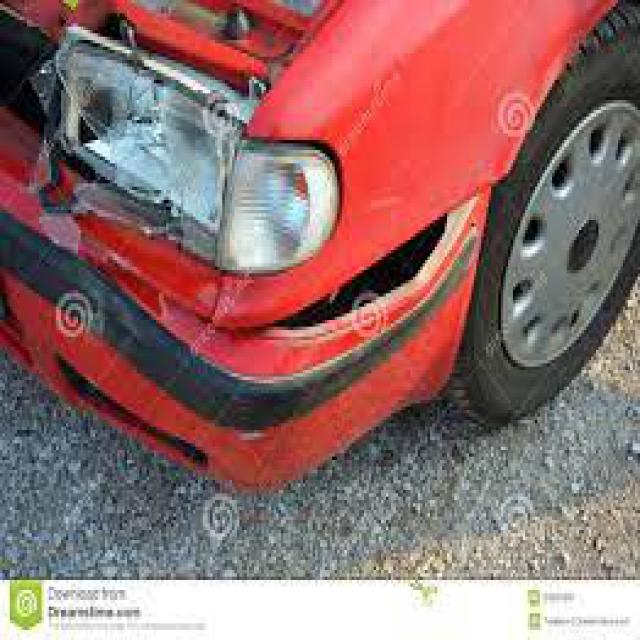Headlight-Damage: (20, 23, 345, 280)
front-bumper-dent: (10, 173, 518, 457)
